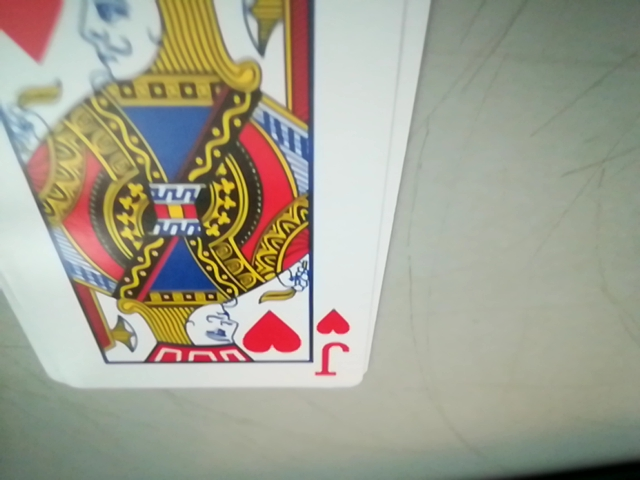hx j: (308, 305, 361, 382)
